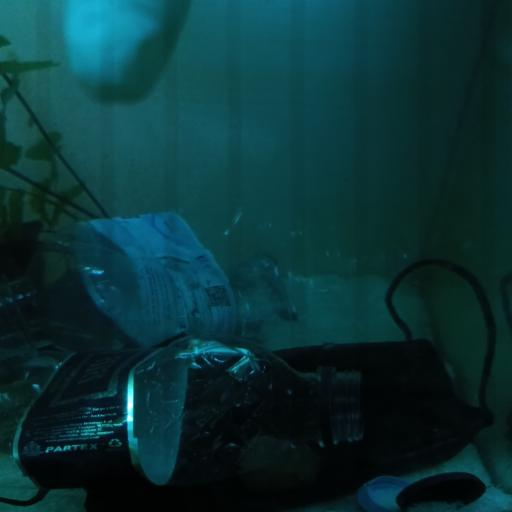bottle_cap: (396, 470, 488, 512), (359, 476, 410, 512)
mask: (91, 256, 494, 512)
plastic_bottle: (2, 338, 364, 485), (0, 209, 396, 338)
